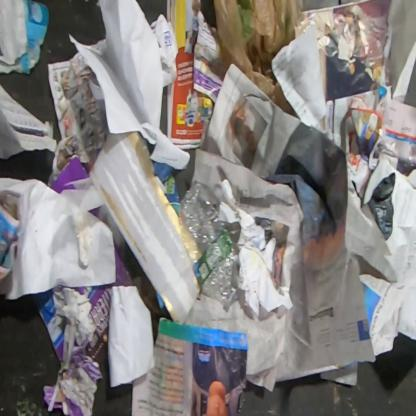cardboard: (68, 240, 136, 367), (29, 287, 67, 365), (48, 156, 90, 195)
rigid_plastic: (178, 183, 240, 313)
soft_plastic: (213, 0, 301, 121)
